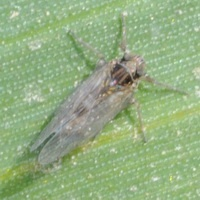insect: (30, 13, 146, 166)
